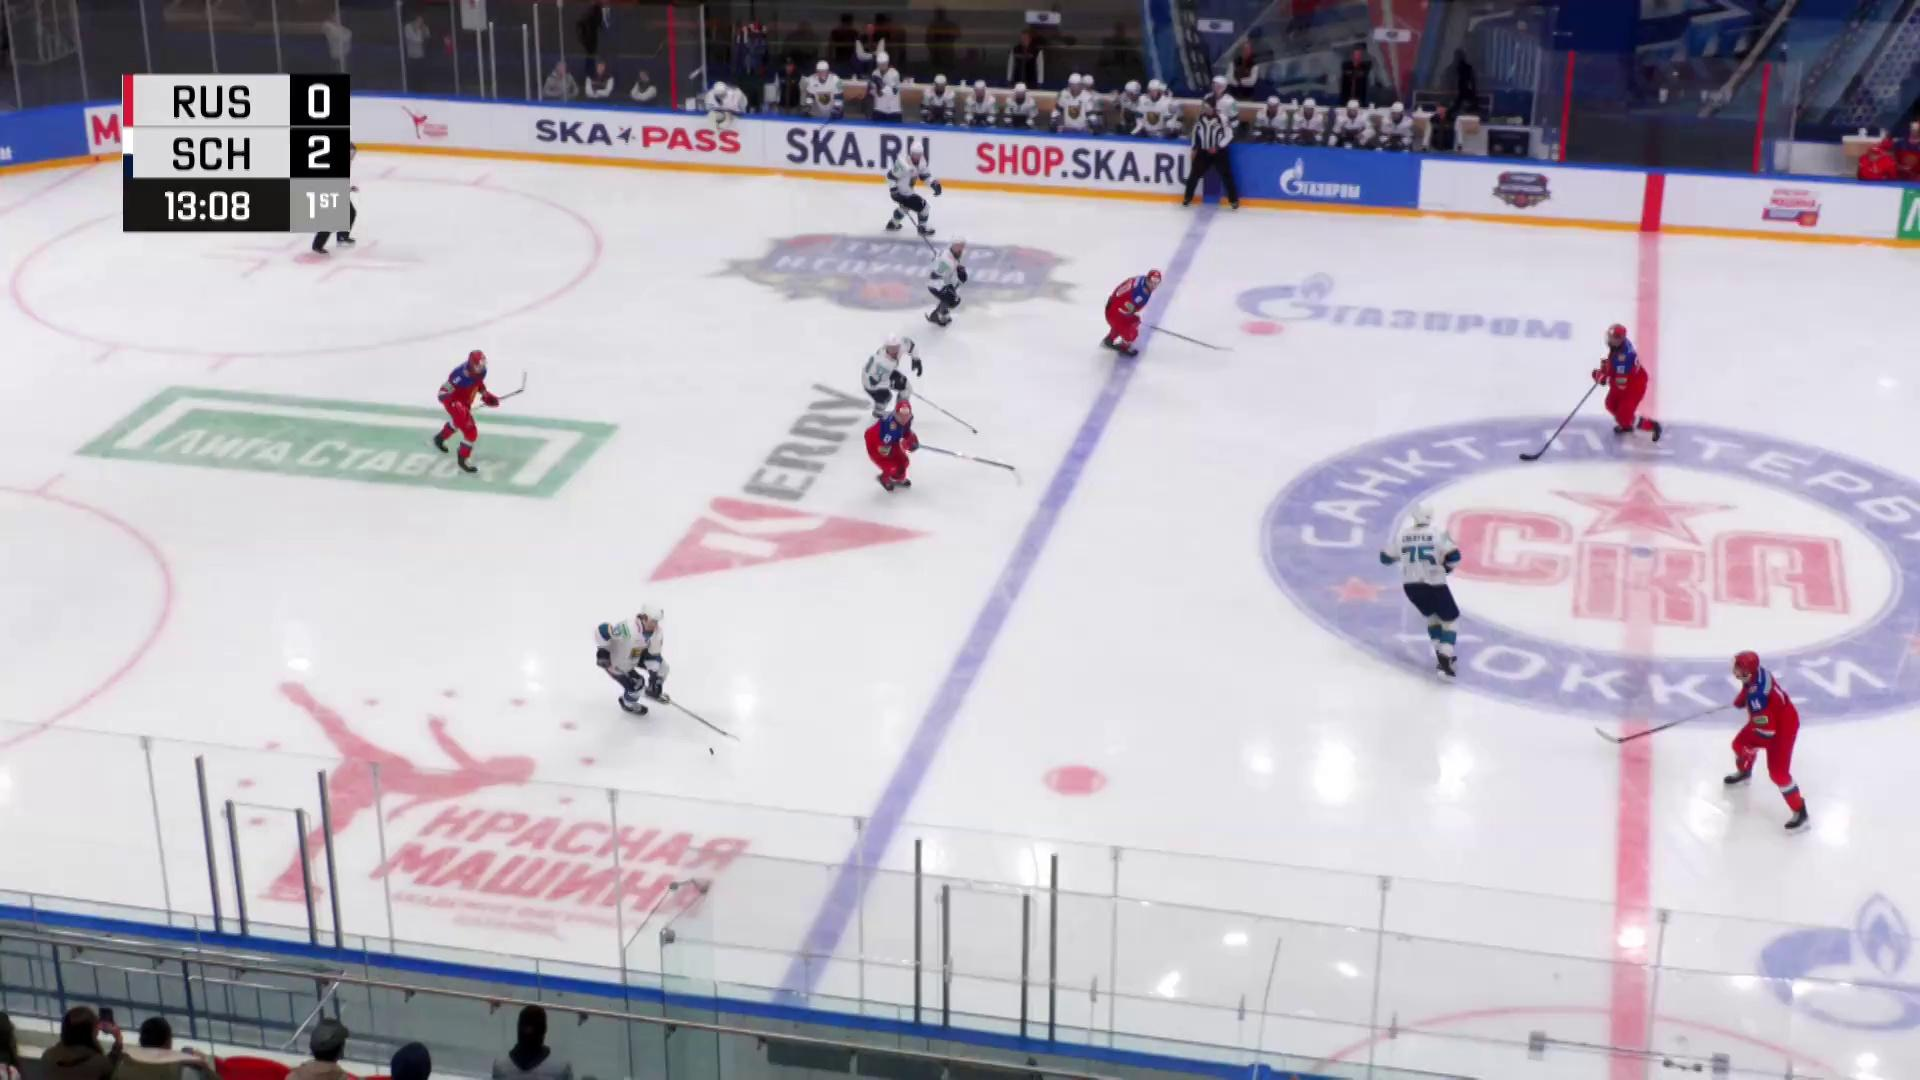ball: (709, 748, 715, 756)
